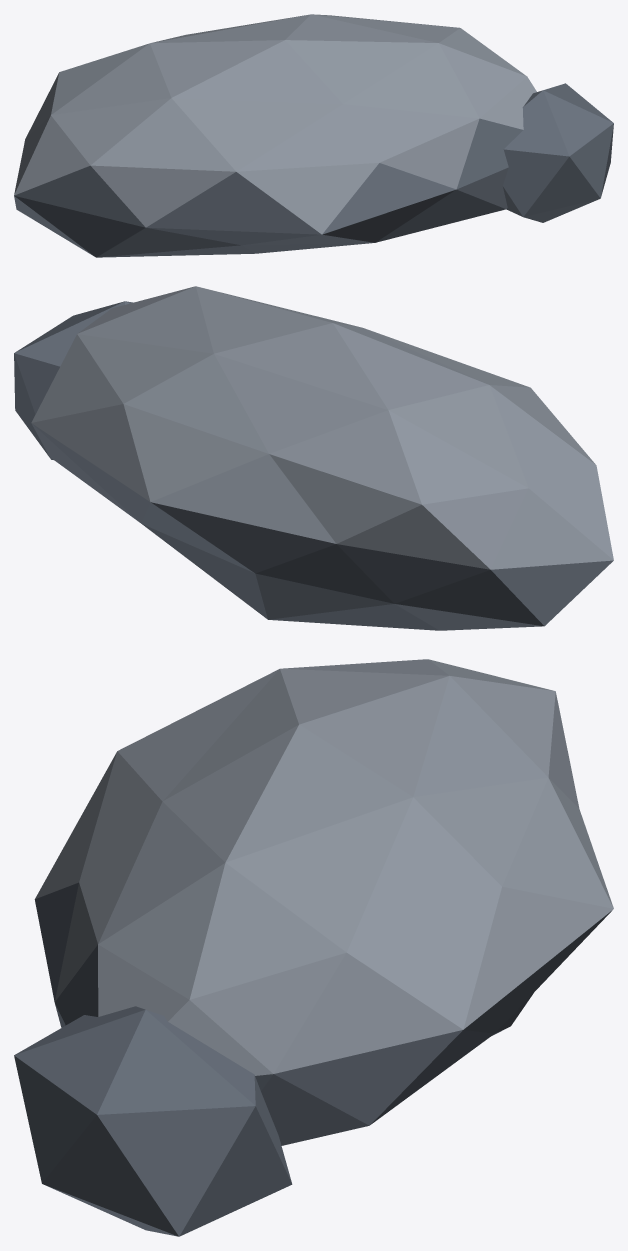
File: riprap_b.glb
3 renders of one model, top to bottom at view 1: azimuth 30°, elevation 25°; view 2: azimuth 150°, elevation 25°; view 3: azimuth 270°, elevation 25°, orthographic. The views are drawn at different scales.
Visible parts, largest first — view 1: riprap_b; view 2: riprap_b; view 3: riprap_b.
Boxes of the visible parts, bbox=[...] form: riprap_b: bbox=[14, 14, 613, 257]; riprap_b: bbox=[14, 286, 613, 630]; riprap_b: bbox=[14, 659, 613, 1236].
Size of the model in its own units: 3.23 by 1.17 by 1.88.
